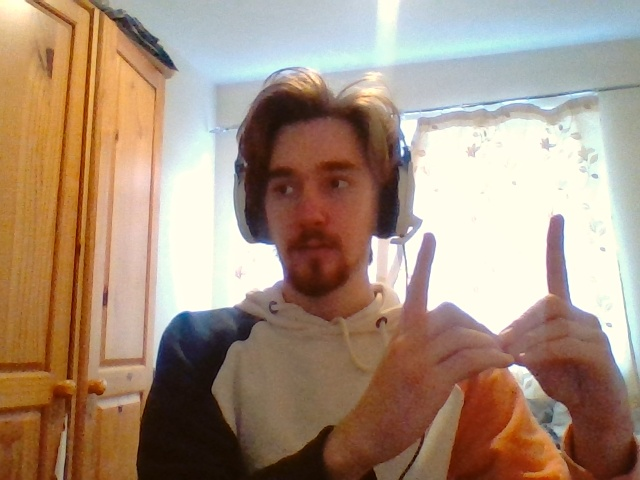meet: (399, 214, 581, 364)
